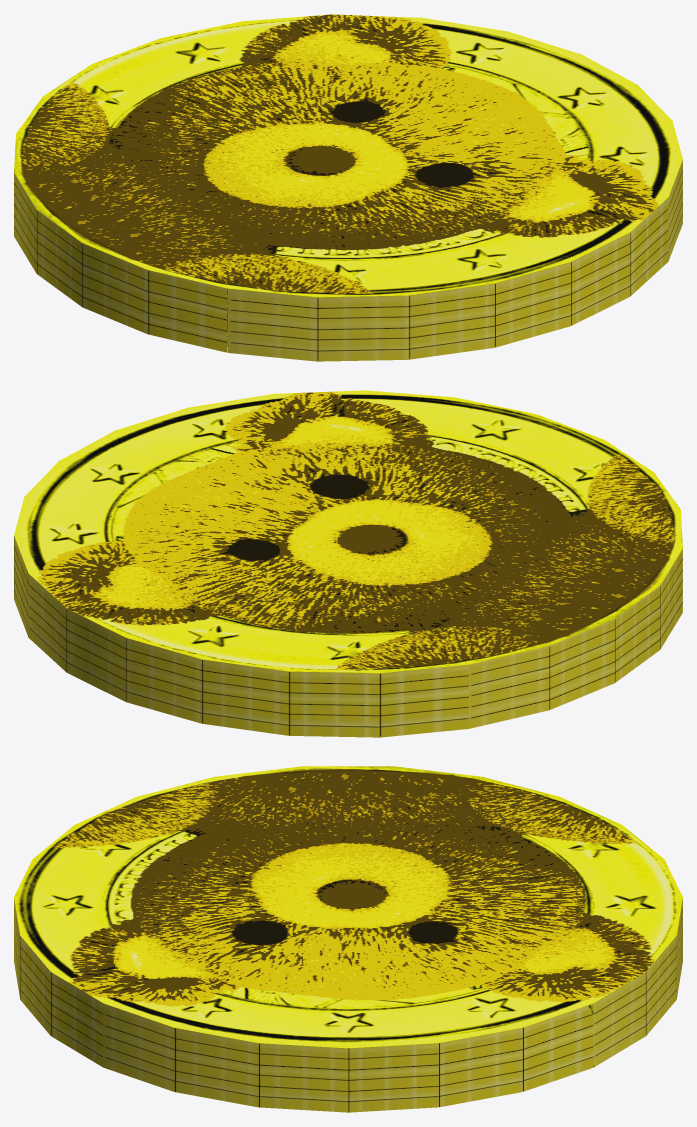
File: SecretToken.fbx
3 views of the same model, one above another, from view 1: azimuth 30°, elevation 25°; view 2: azimuth 150°, elevation 25°; view 3: azimuth 270°, elevation 25° (orthographic).
Parts seen in each view (by area): view 1: Cylinder001; view 2: Cylinder001; view 3: Cylinder001.
Boxes of the visible parts, x1,y1,x2,y2 form: Cylinder001: [14, 14, 682, 361]; Cylinder001: [14, 390, 682, 737]; Cylinder001: [14, 766, 682, 1112].
Bounding box in the file's own units: 4 × 0.4249 × 4.01.
1 material, 1 textured.
